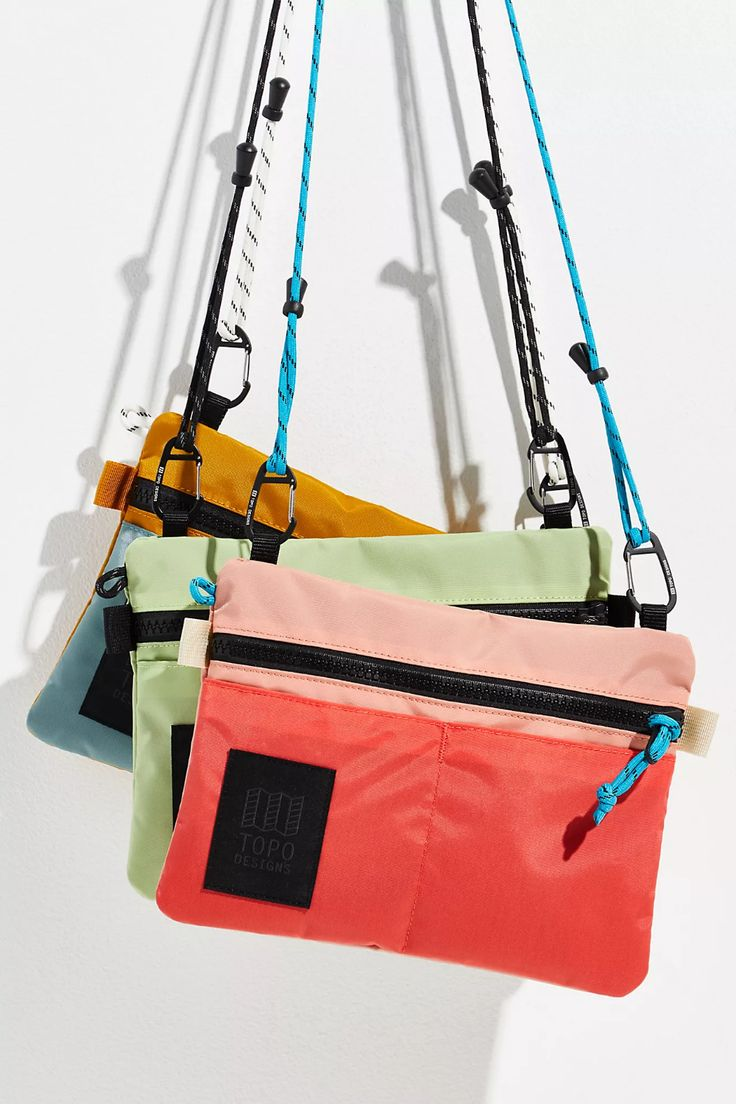nylon: (21, 409, 695, 1000)
